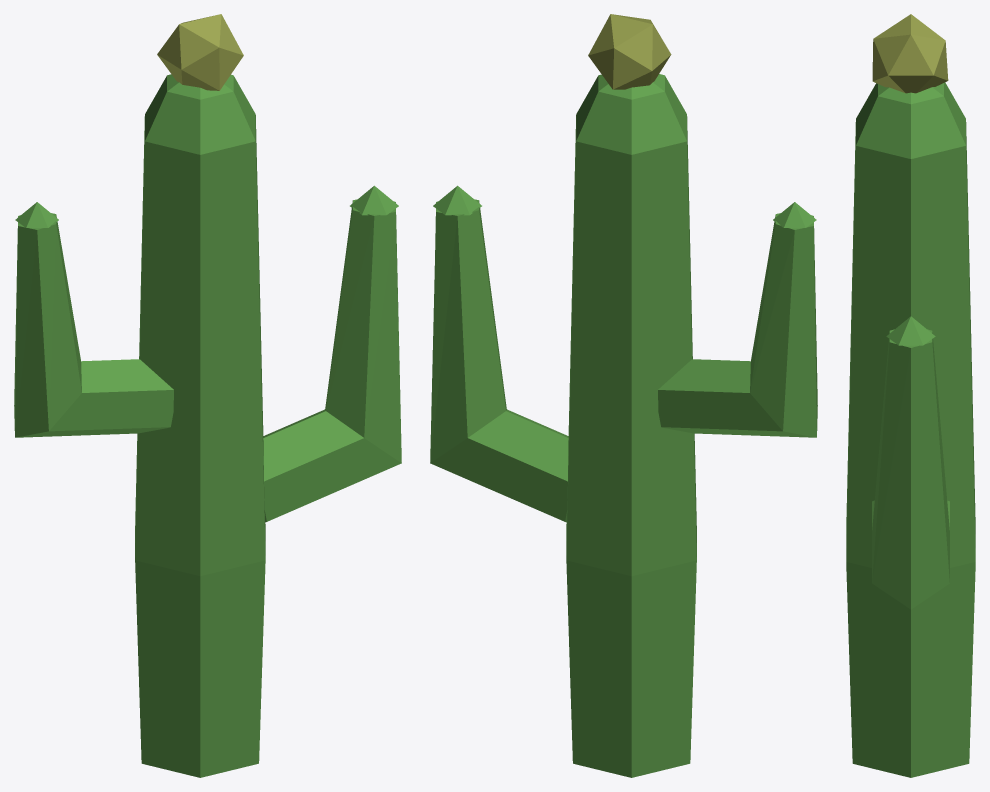
File: Veg_Cactus_A.fbx
The picture shows the model from 3 angles, left to right: view 1: azimuth 30°, elevation 25°; view 2: azimuth 150°, elevation 25°; view 3: azimuth 270°, elevation 25°; orthographic projection.
Parts seen in each view (by area): view 1: Veg_Cactus_A; view 2: Veg_Cactus_A; view 3: Veg_Cactus_A.
Boxes of the visible parts, x1,y1,x2,y2 form: Veg_Cactus_A: (14, 14, 401, 777); Veg_Cactus_A: (430, 14, 817, 777); Veg_Cactus_A: (846, 14, 975, 777).
Bounding box in the file's own units: 1.77 × 3.21 × 0.5196.
